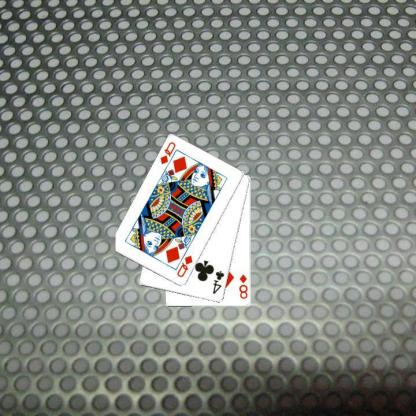4C: (210, 269, 226, 295)
8D: (237, 271, 248, 300)
QD: (158, 139, 177, 166), (174, 253, 193, 279)
